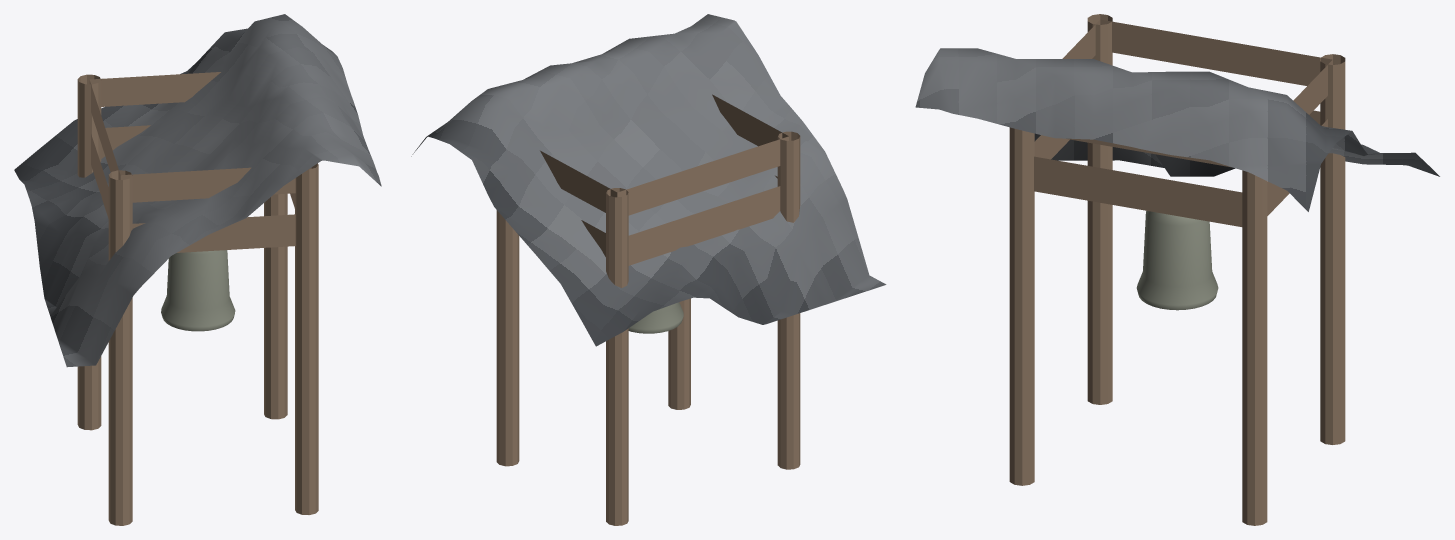
File: eikando-shoro.glb
3 views of the same model, side by side, from view 1: azimuth 30°, elevation 25°; view 2: azimuth 150°, elevation 25°; view 3: azimuth 270°, elevation 25° (orthographic). The views are drawn at different scales.
Parts seen in each view (by area): view 1: Measured roof, Weathered timber, Patinated bell; view 2: Measured roof, Weathered timber, Patinated bell; view 3: Weathered timber, Measured roof, Patinated bell.
Boxes of the visible parts, bbox=[...] form: Measured roof: bbox=[14, 14, 381, 367]; Weathered timber: bbox=[77, 72, 318, 525]; Patinated bell: bbox=[161, 250, 235, 331]; Measured roof: bbox=[411, 14, 886, 346]; Weathered timber: bbox=[496, 94, 800, 525]; Patinated bell: bbox=[628, 302, 683, 333]; Weathered timber: bbox=[1009, 14, 1345, 525]; Measured roof: bbox=[915, 48, 1439, 211]; Patinated bell: bbox=[1136, 211, 1218, 310].
Bounding box in the file's own units: 6.28 × 6.14 × 6.8.
Materials: 3 (1 with a texture image).
